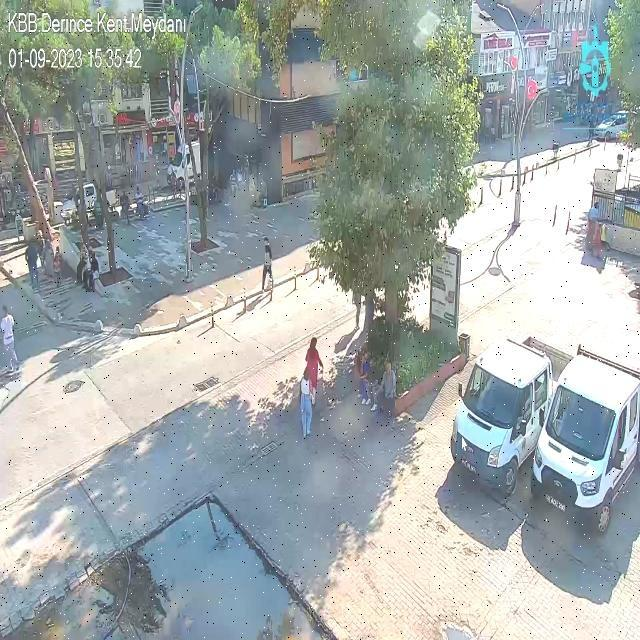Truck: (417, 340, 558, 519), (526, 339, 640, 548)
Van: (153, 132, 210, 195)
